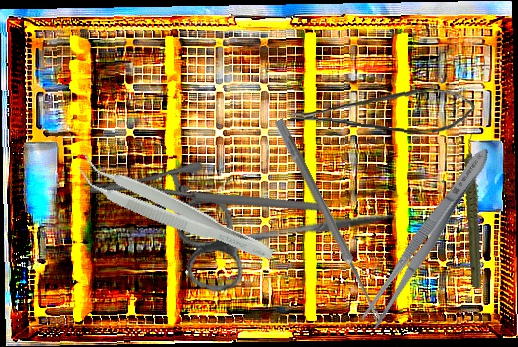Dressing Forceps: (356, 141, 498, 333)
Handpiece: (438, 131, 512, 289)
Iris Scissors: (172, 163, 403, 299)
Micro Scissor: (289, 77, 477, 139)
Needle Holder: (86, 113, 327, 284)
Surgical Spoon: (272, 118, 386, 325)
Tissue Forceps: (70, 151, 281, 269)
